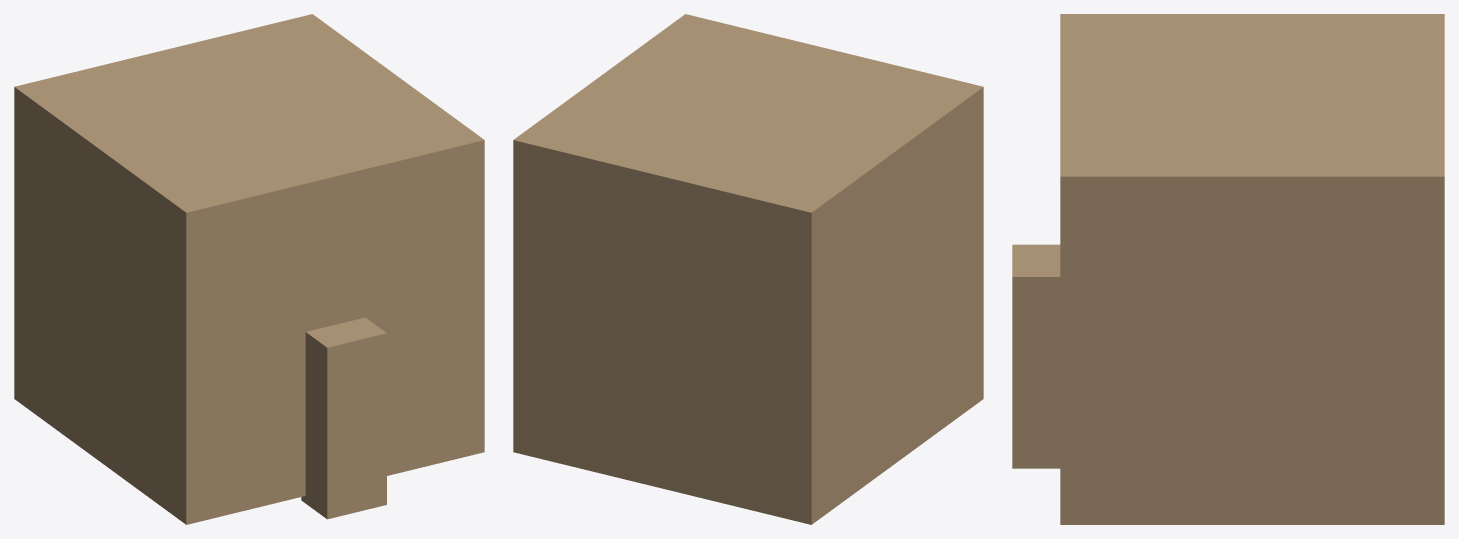
File: HelmetLight.glb
3 renders of one model, left to right at view 1: azimuth 30°, elevation 25°; view 2: azimuth 150°, elevation 25°; view 3: azimuth 270°, elevation 25°, orthographic. The views are drawn at different scales.
Visible parts, largest first — view 1: filler_HelmetLight; view 2: filler_HelmetLight; view 3: filler_HelmetLight.
Part boxes in pixels (bbox=[...]): filler_HelmetLight: bbox=[14, 14, 484, 524]; filler_HelmetLight: bbox=[513, 14, 983, 524]; filler_HelmetLight: bbox=[1012, 14, 1444, 524].
Bounding box in the file's own units: 0.4 × 0.41 × 0.45.
